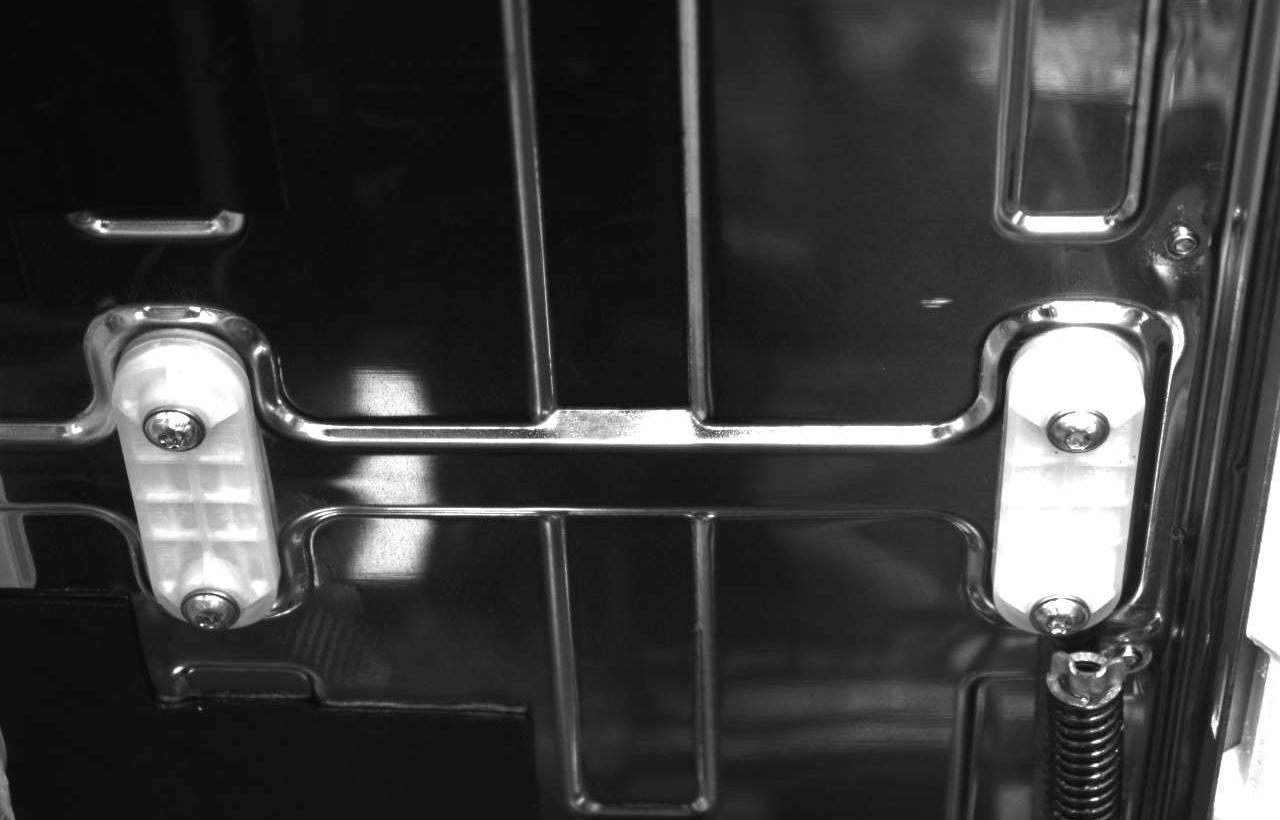vida-ok: (139, 392, 210, 459), (1043, 395, 1110, 462), (180, 574, 246, 632), (1026, 584, 1091, 642)
